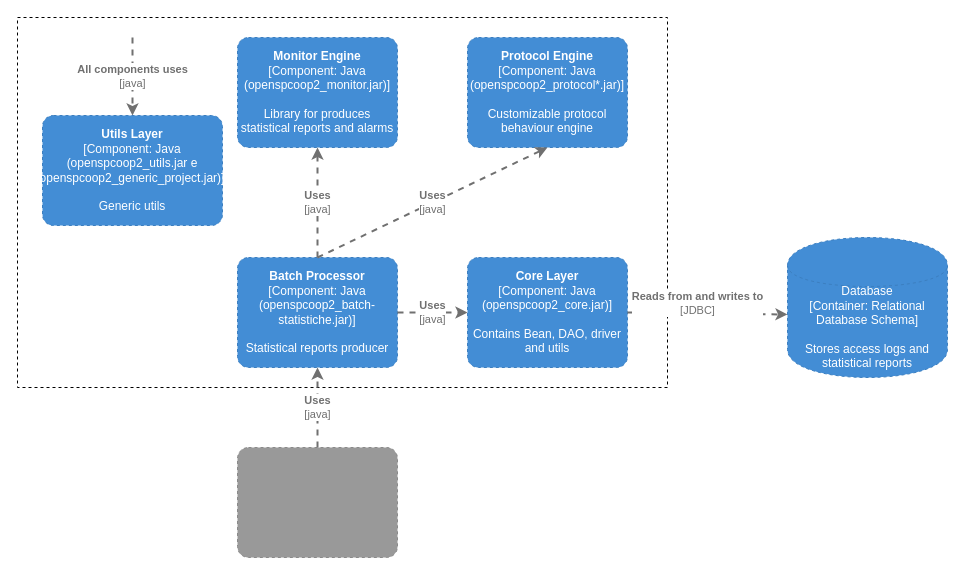
Some shapes in this 965 by 575 pixel diagram are drawn without their labels. The shapes that lost their labels are listed below. From the top down, each one's box as (x1, y1, x2, y2) in pixels, then its label:
(16, 16, 668, 388): Batch [Container]
(236, 446, 398, 558): Cron Scheduler [Software System]
